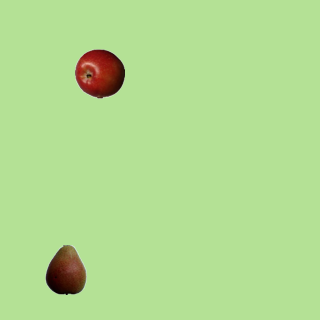Apple Braeburn: (74, 48, 124, 98)
Pear Forelle: (40, 244, 90, 294)
